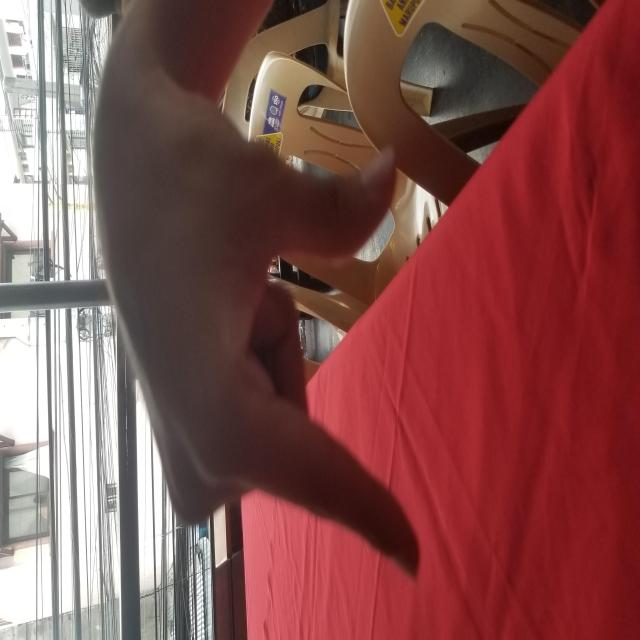Q: (51, 89, 436, 609)
